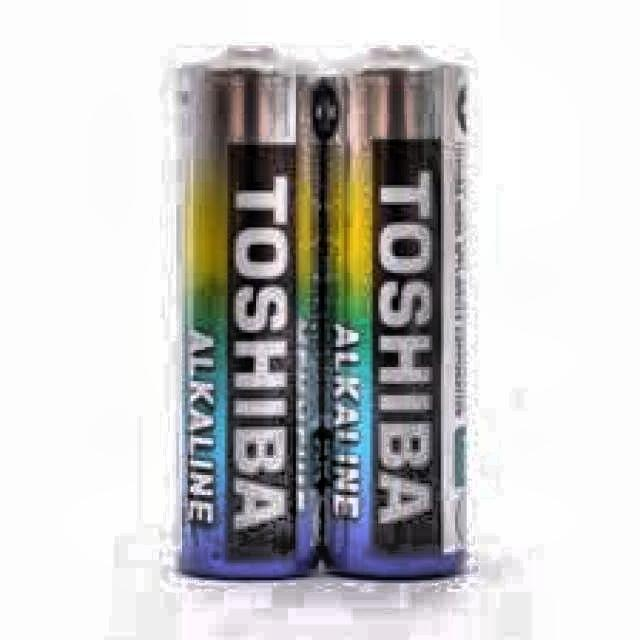battery: (179, 48, 466, 578)
